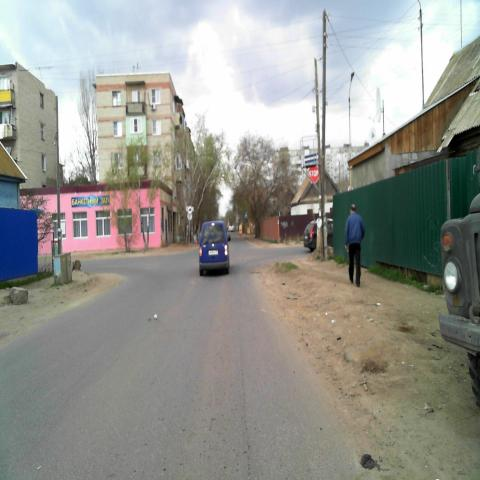5_7_1: (305, 152, 319, 164)
